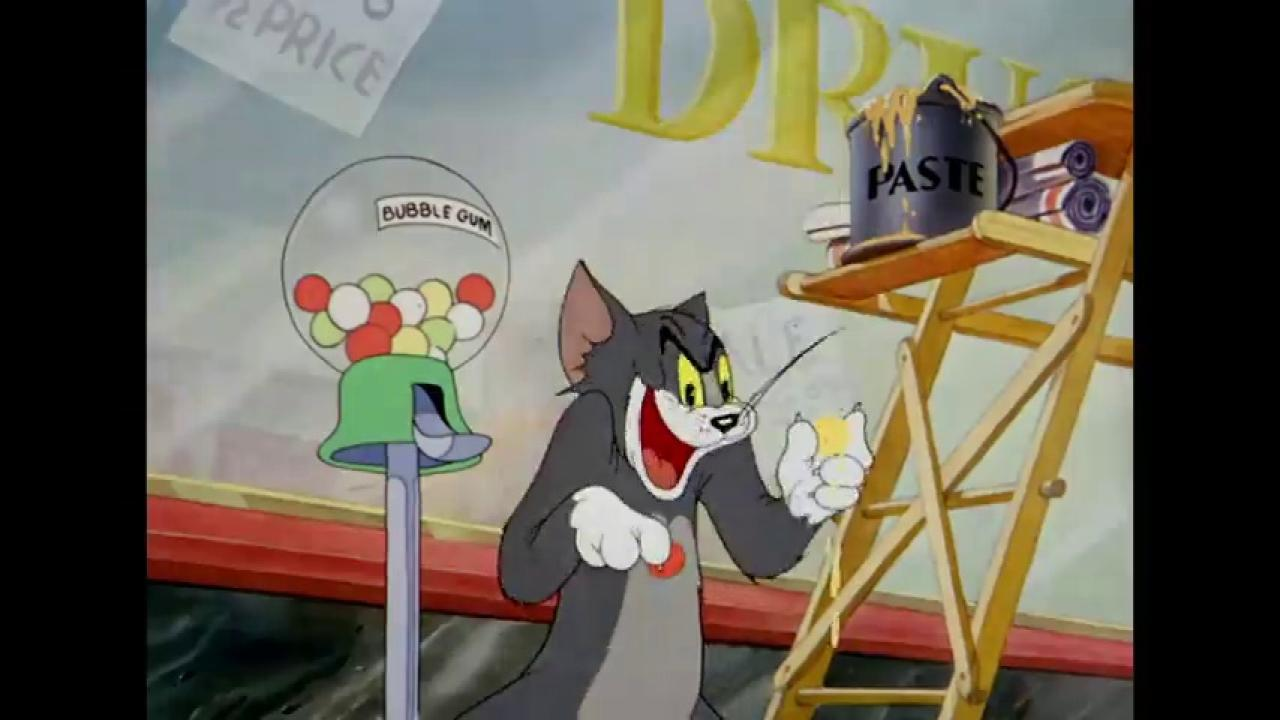Tom: (445, 255, 878, 720)
